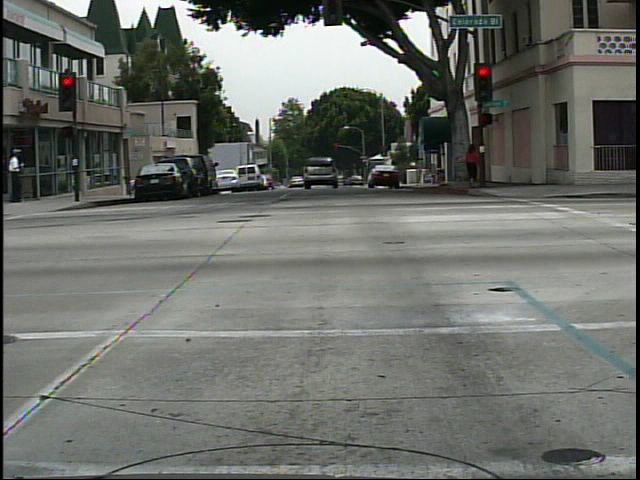person: (457, 140, 488, 193), (2, 141, 26, 207)
